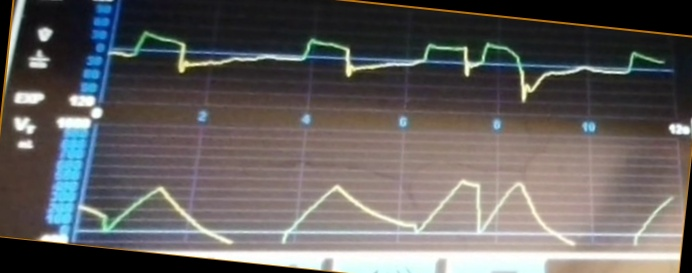Double_Triggering Flow: (117, 26, 597, 103)
Double_Triggering Volume: (86, 174, 627, 246)
